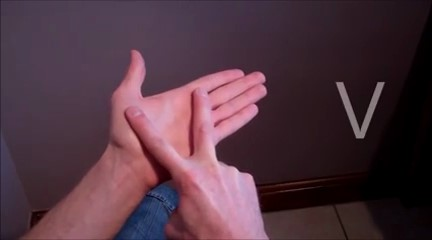V: (100, 33, 285, 240)
